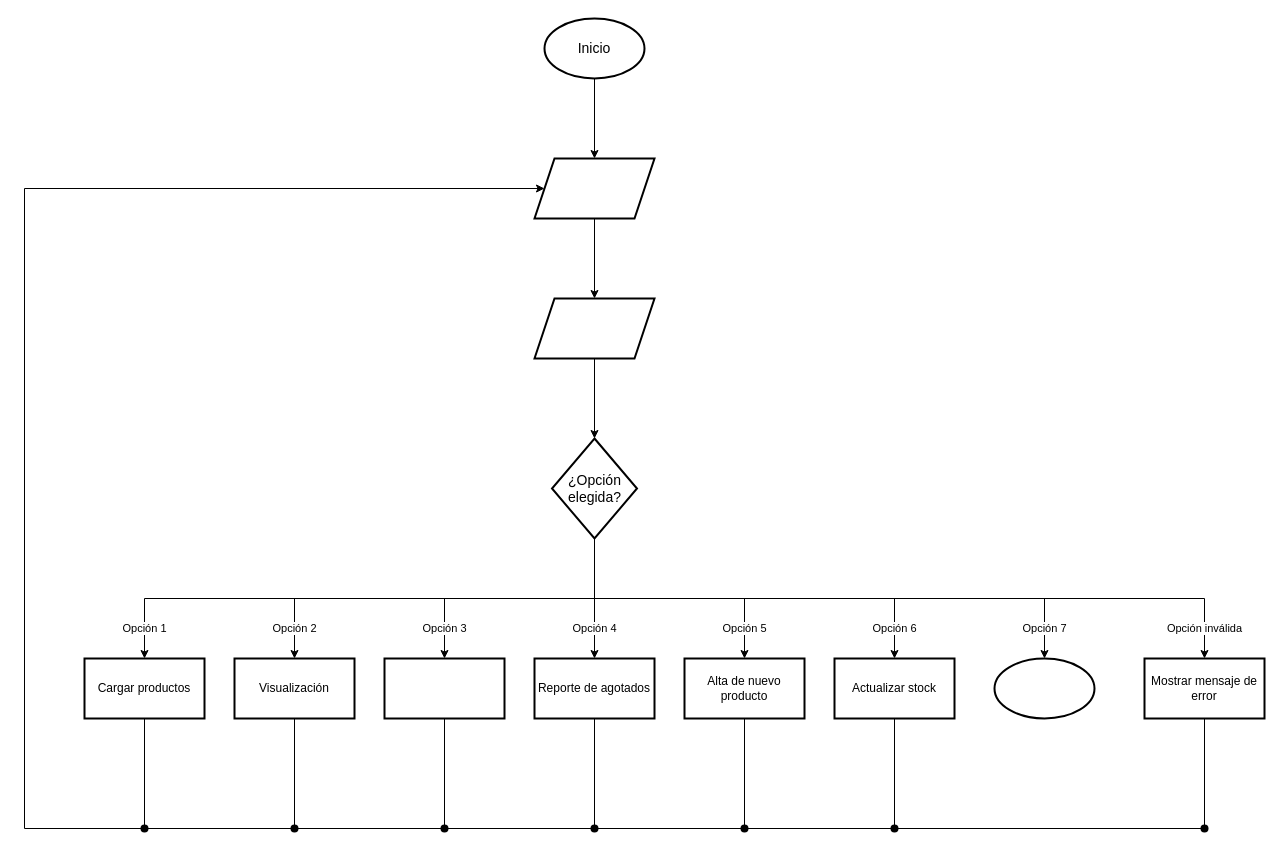
Some shapes in this 1283 by 856 pixel diagram are drawn without their labels. The box of each missing label's shape, as (x1, y1, x2, y2) in pixels:
Consulta de stock: (383, 657, 505, 719)
Fin: (993, 657, 1095, 719)
Ingresar opción: (533, 297, 655, 359)
Mostrar menú (7 opciones): (533, 157, 655, 219)
